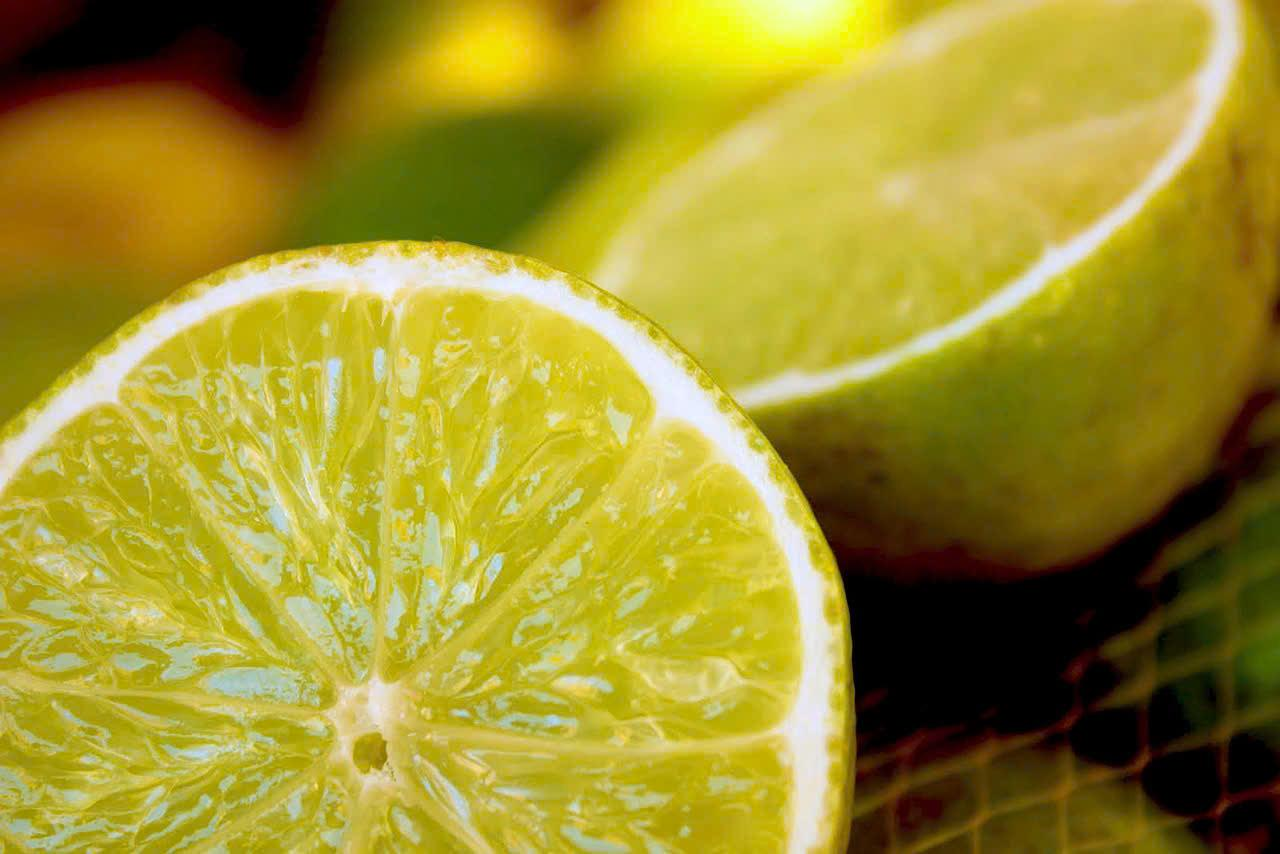lime: (4, 288, 841, 854), (694, 4, 1259, 497)
